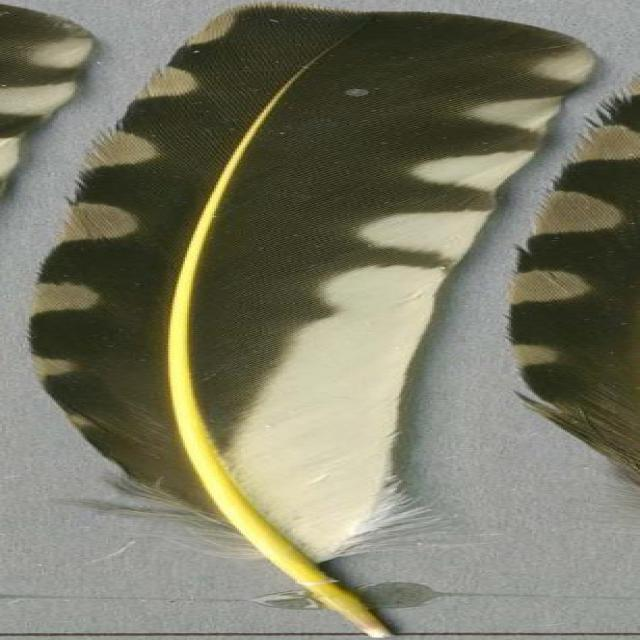feather: (26, 1, 613, 640)
